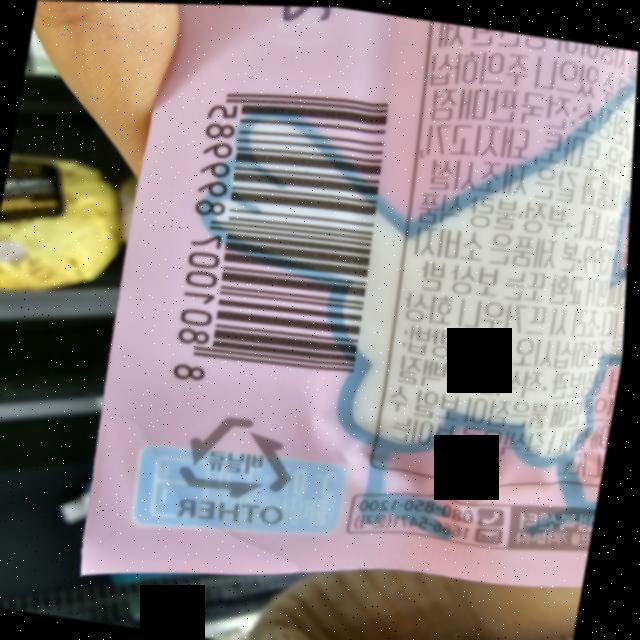Vinyl: (179, 405, 309, 507)
